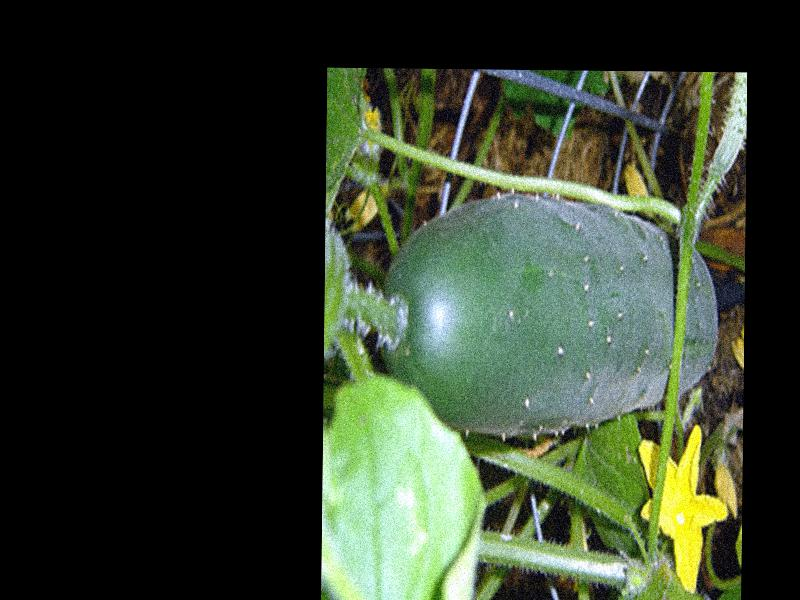Cucumber: (374, 194, 716, 438)
